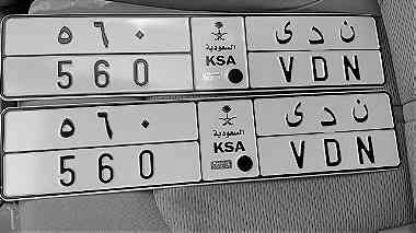license plate: (0, 87, 400, 202), (1, 7, 384, 101)
